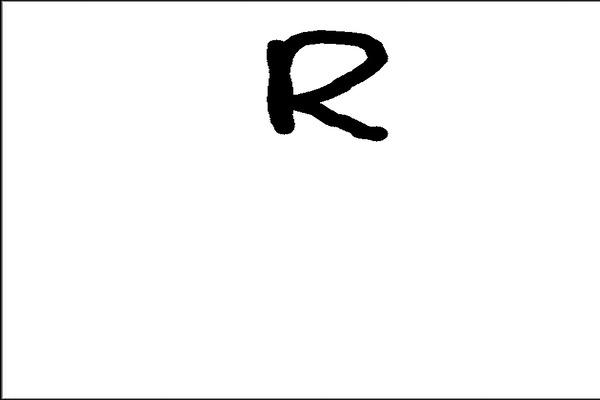R: (259, 22, 397, 148)
